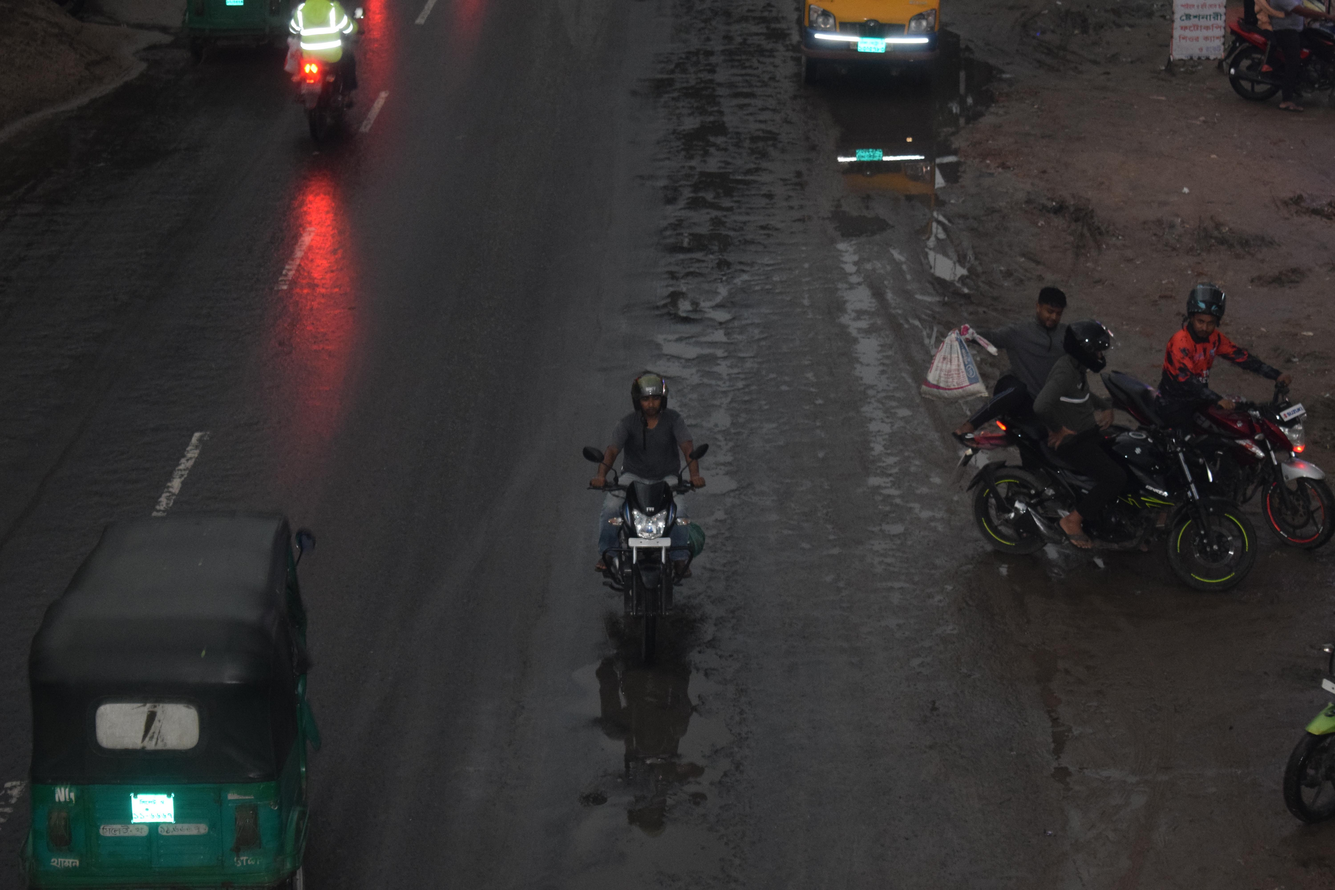Bike: (893, 264, 1258, 640), (491, 328, 756, 711), (1124, 282, 1335, 578), (249, 0, 400, 179)
